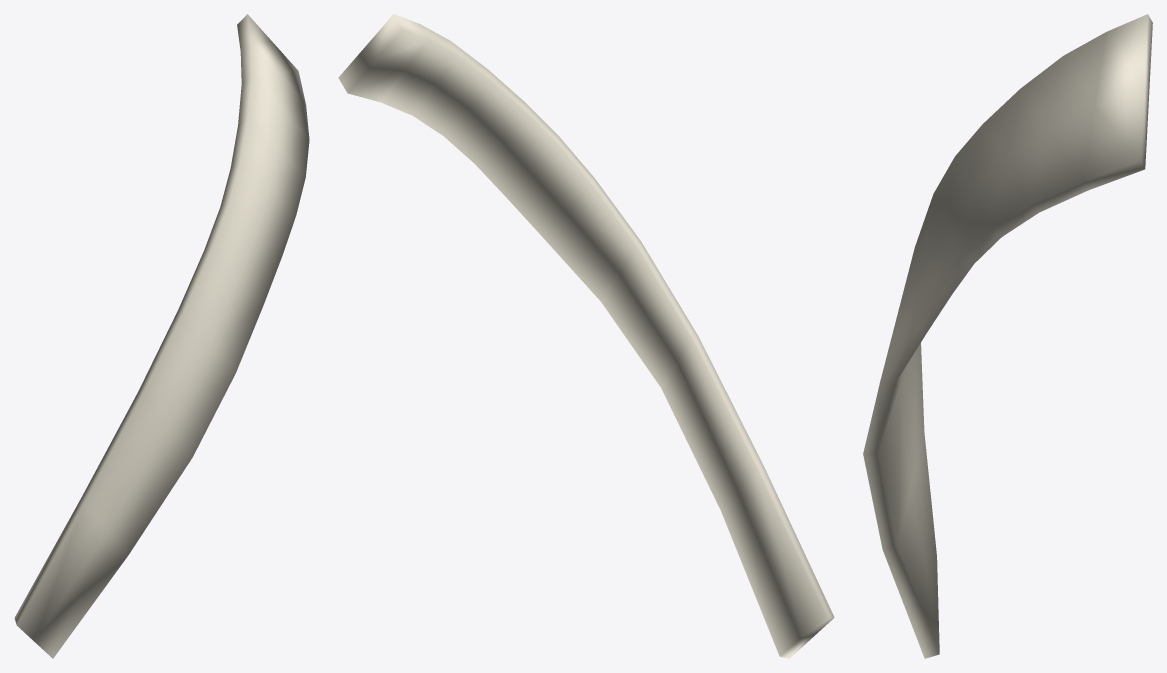
3 views of the same model, side by side, from view 1: azimuth 30°, elevation 25°; view 2: azimuth 150°, elevation 25°; view 3: azimuth 270°, elevation 25° (orthographic). The views are drawn at different scales.
Visible parts, largest first — view 1: ZA_892c60f46edafbc4; view 2: ZA_892c60f46edafbc4; view 3: ZA_892c60f46edafbc4.
Boxes of the visible parts, box(x1,y1,x2,y2) form: ZA_892c60f46edafbc4: box(14, 14, 309, 658); ZA_892c60f46edafbc4: box(338, 14, 834, 658); ZA_892c60f46edafbc4: box(863, 14, 1152, 658).
Bounding box in the file's own units: 0.0267 × 0.0387 × 0.0119.
